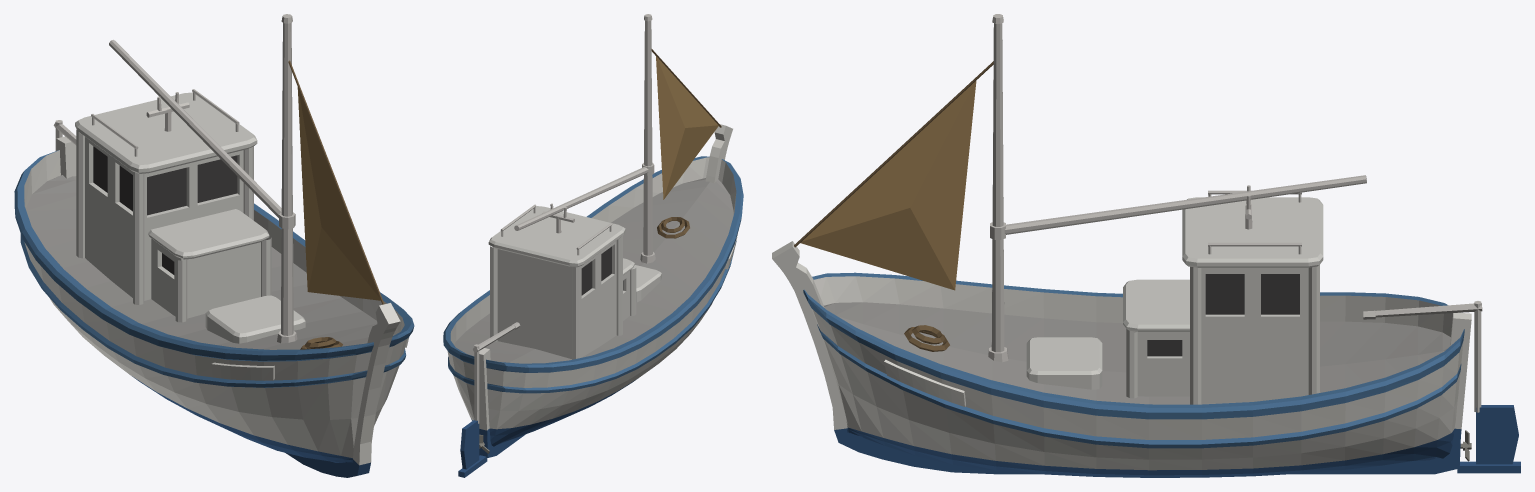
Rendered from caique-fishing-boat-262c24.glb.
3 views of the same model, side by side, from view 1: azimuth 30°, elevation 25°; view 2: azimuth 150°, elevation 25°; view 3: azimuth 270°, elevation 25° (orthographic). The views are drawn at different scales.
Visible parts, largest first — view 1: hull, jib, mast, boom; view 2: hull, jib, mast, rudder, boom, rope-coil; view 3: hull, jib, mast, rudder, boom, rope-coil.
Part boxes in pixels (x1,y1,x2,y2): hull: [14, 89, 414, 477]; jib: [297, 87, 380, 300]; mast: [146, 14, 384, 343]; boom: [109, 39, 281, 217]; hull: [443, 124, 743, 477]; jib: [656, 56, 718, 199]; mast: [542, 14, 721, 263]; rudder: [460, 322, 520, 469]; boom: [514, 167, 648, 230]; rope-coil: [657, 217, 689, 238]; hull: [772, 190, 1520, 477]; jib: [800, 81, 976, 290]; mast: [794, 14, 1252, 362]; rudder: [1363, 301, 1518, 464]; boom: [1004, 175, 1366, 234]; rope-coil: [904, 325, 949, 351].
Size of the model in its own units: 2.69 by 4.91 by 7.32.
